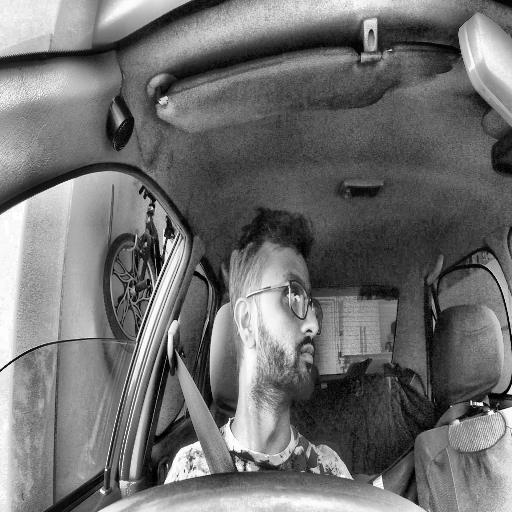awake: (228, 207, 323, 406)
